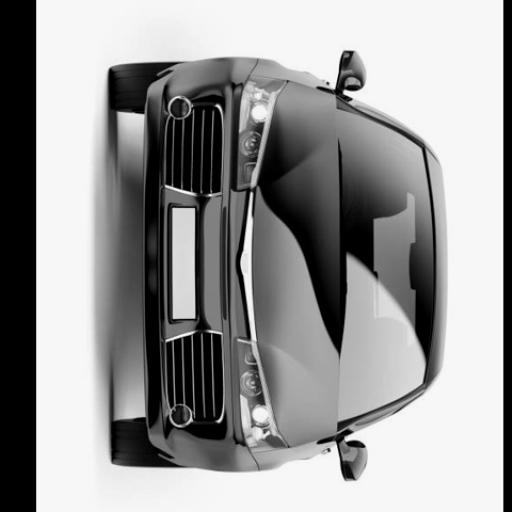sedan: (110, 52, 446, 479)
